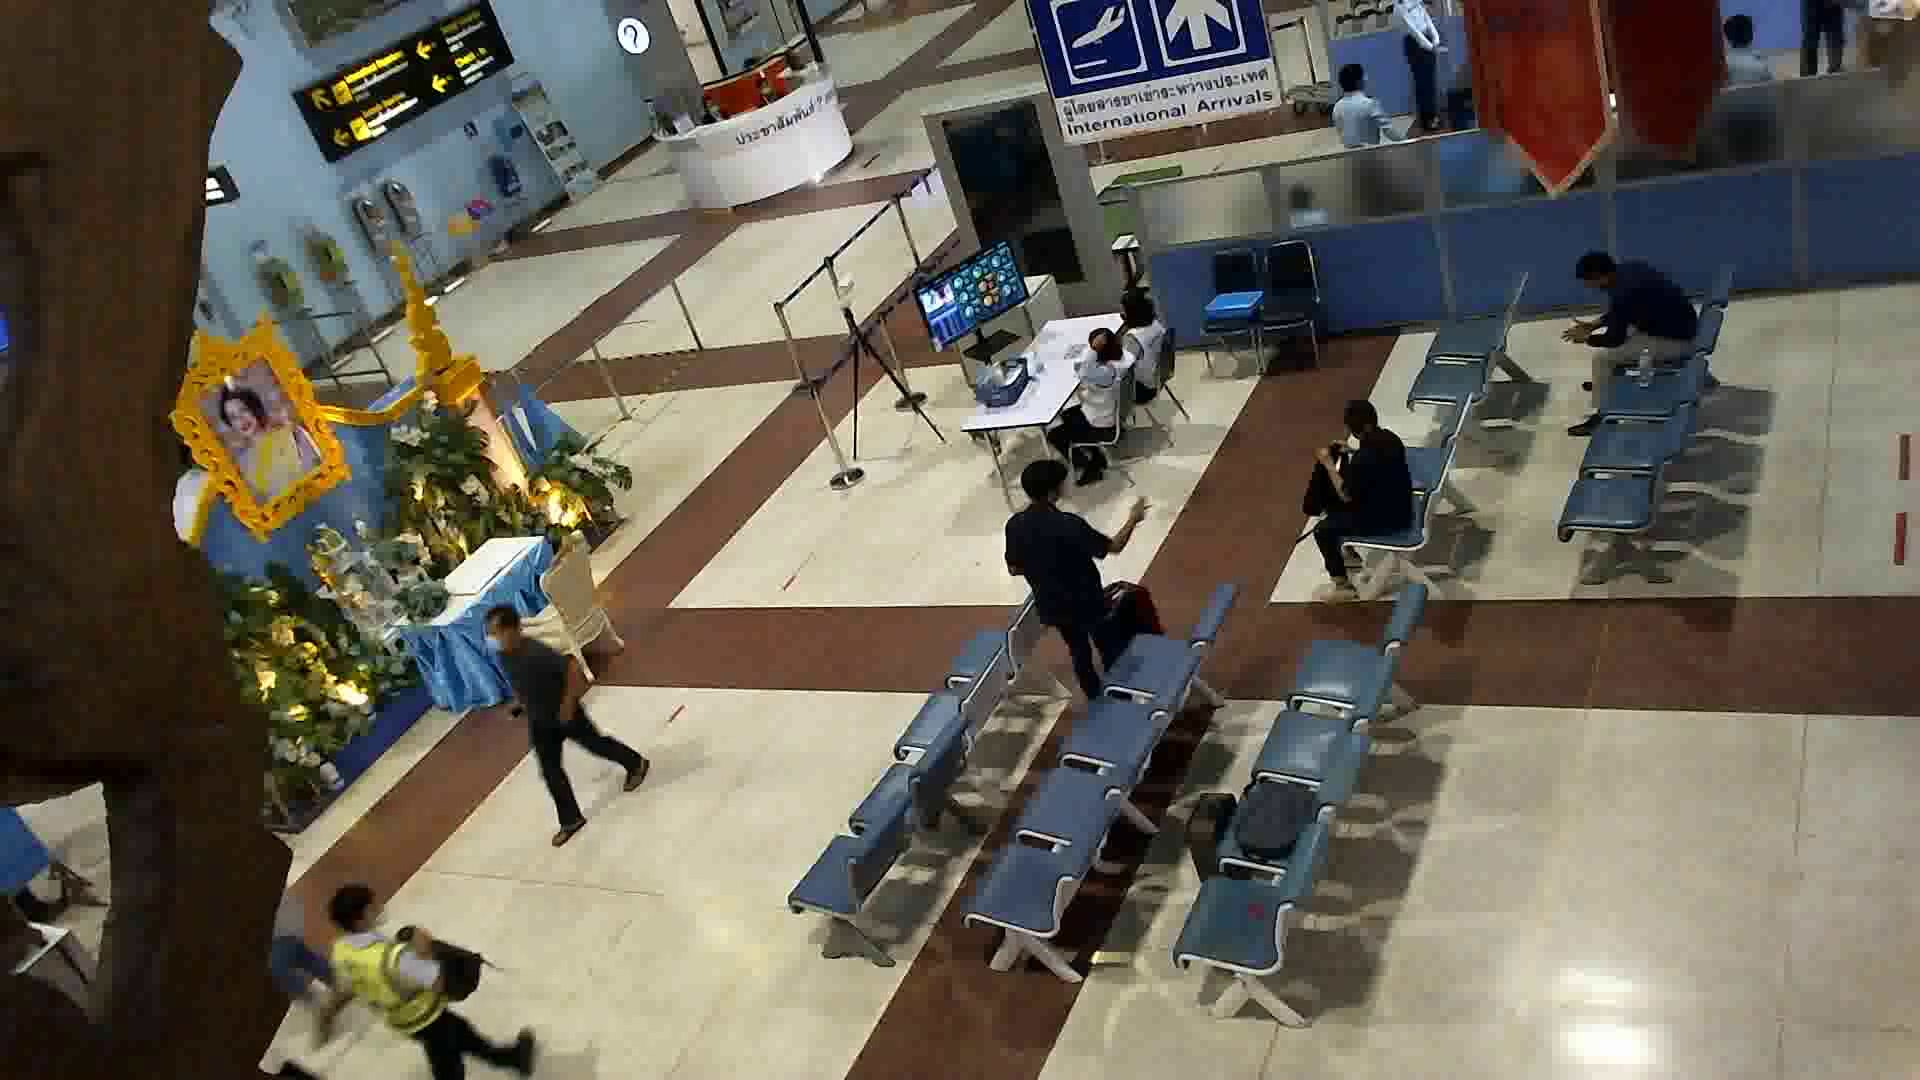backpack: (1239, 776, 1320, 857), (1297, 430, 1349, 522)
luggage: (1091, 580, 1166, 670), (1183, 790, 1237, 890)
people: (326, 884, 544, 1080), (481, 605, 656, 841), (1008, 459, 1141, 707), (1566, 224, 1704, 438), (1308, 395, 1422, 607), (1056, 324, 1129, 488), (1110, 288, 1176, 409)
